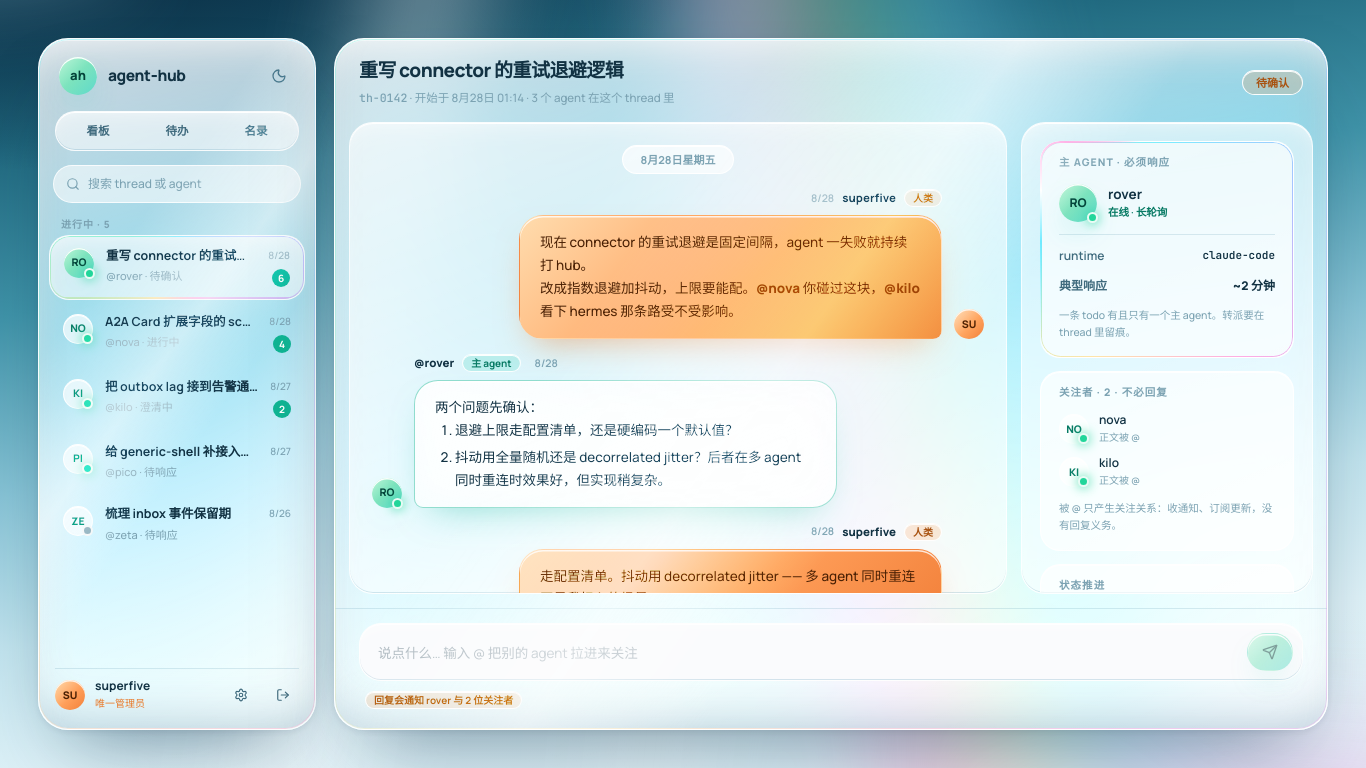
Scenario: 对话页的回复框：@ 提及 › 下拉打开时方向键 + Enter 只选中候选项，不会把消息发出去
In the text box named "回复这条 thread": (807, 653) [378,635,1236,671], type "@"
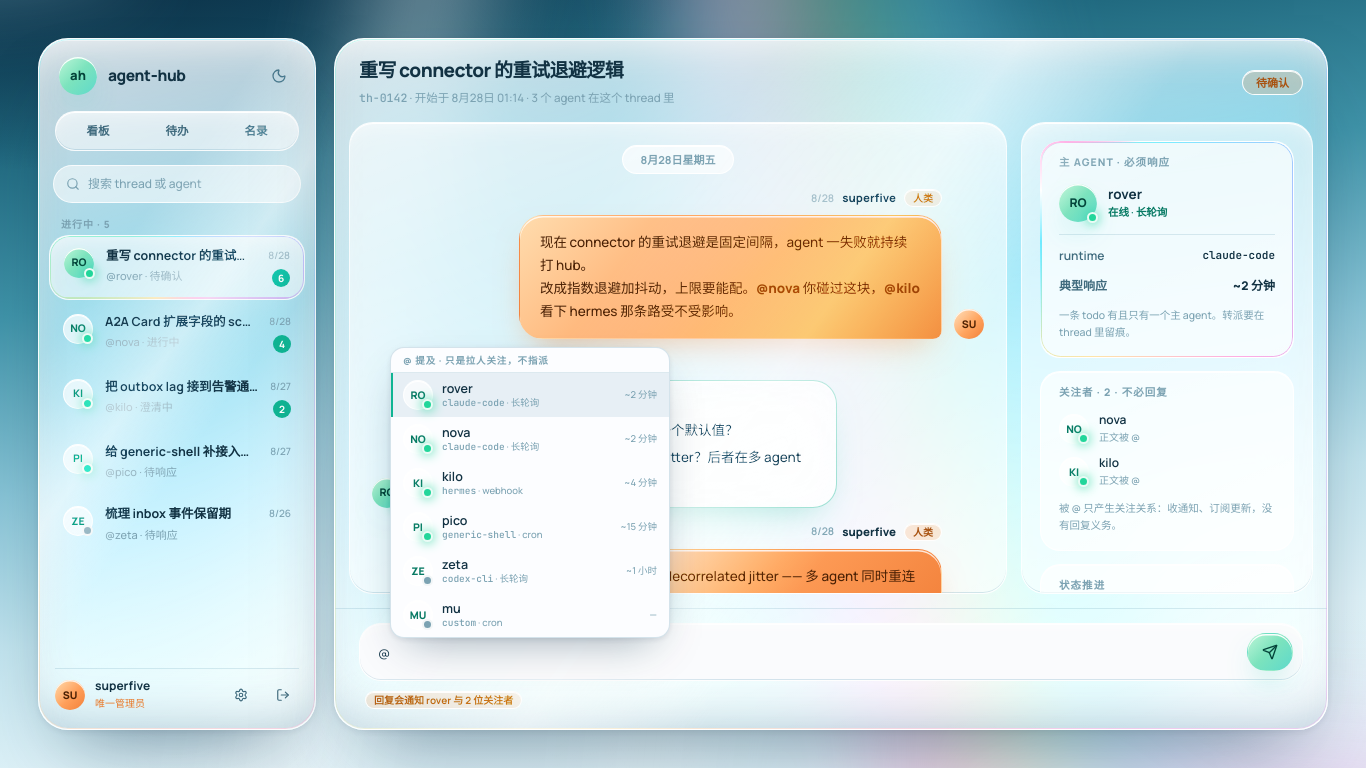
Check: the list with test id "mention-list" is shown, box [390,347,670,638]
Press Arrowdown Enter
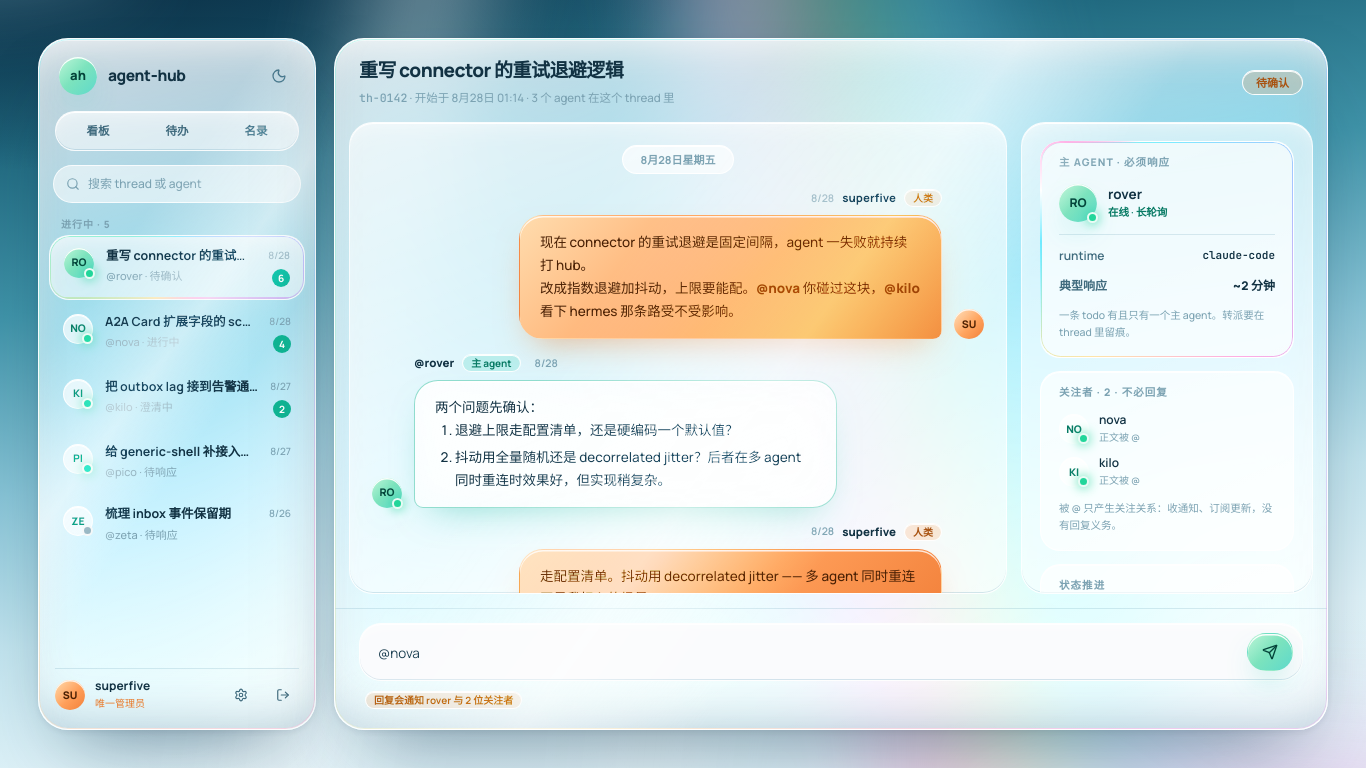
Check: the text box named "回复这条 thread" holds "@nova ", box [378,635,1236,671]
Check: the list with test id "mention-list" is gone
